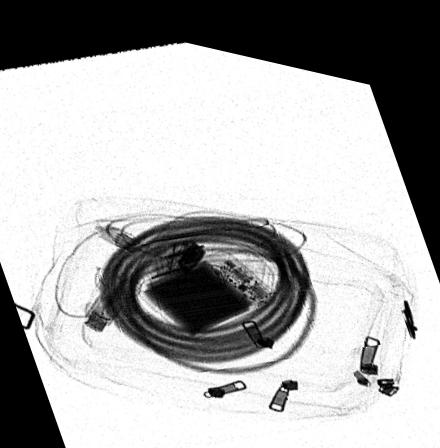Powerbank: (138, 238, 274, 331)
